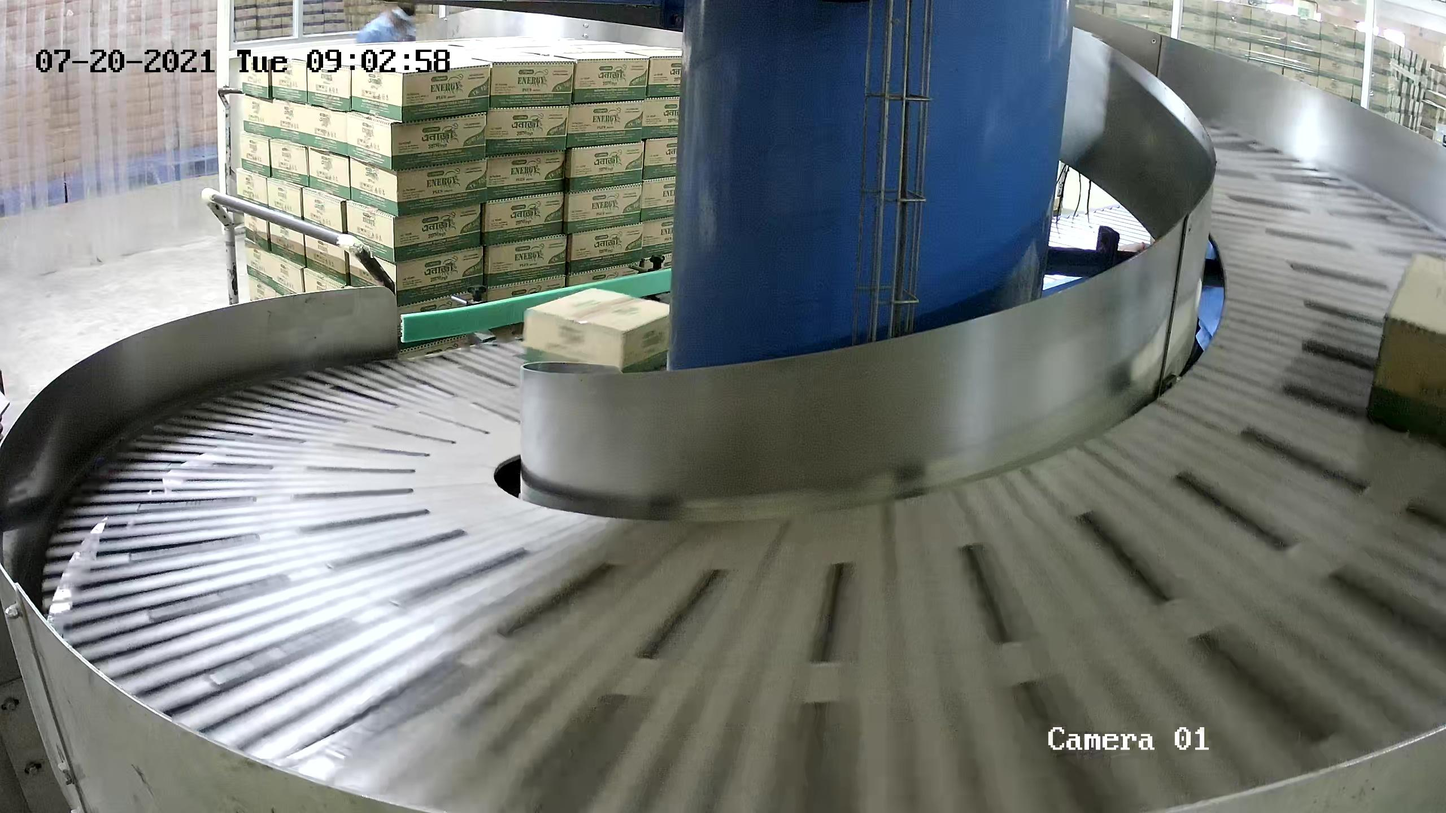Box: (522, 286, 686, 389), (1364, 251, 1446, 449)
